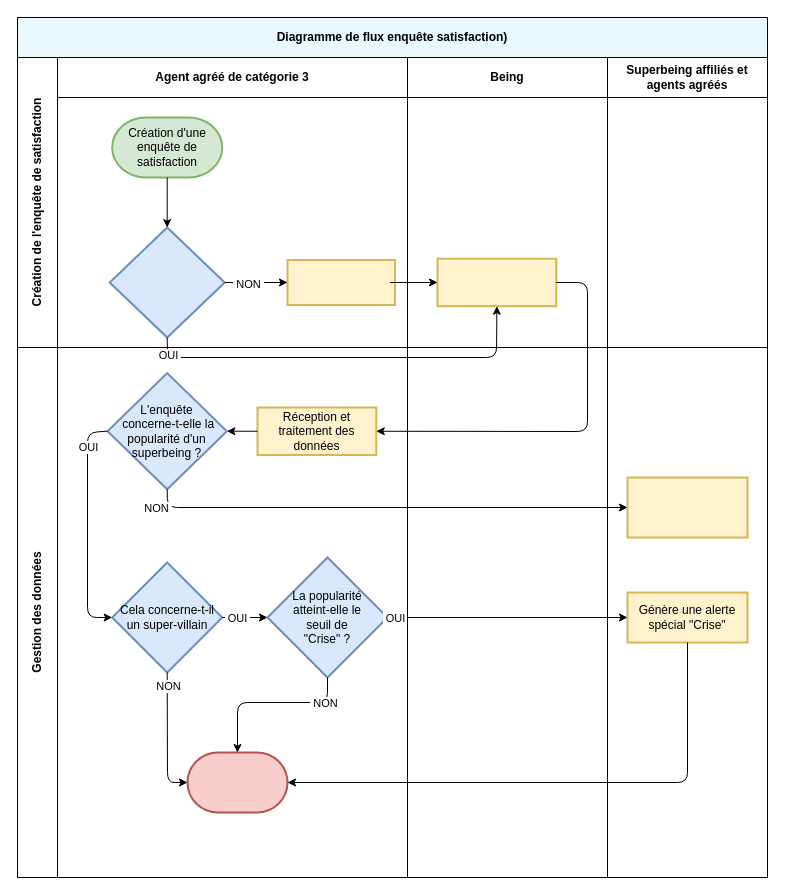
This 785x895 diagram has some shape labels left out. Each missing label, with the centre of its shape:
"Analyse des destinataires et mailing" goes at pixel 496 282.
"Création du template" goes at pixel 341 282.
"Envoi des données aux services concernés" goes at pixel 687 507.
"Met à jour les statistiques" goes at pixel 237 782.
"Un template est-il existant ?" goes at pixel 166 282.
